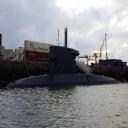submarine: (6, 48, 125, 91)
